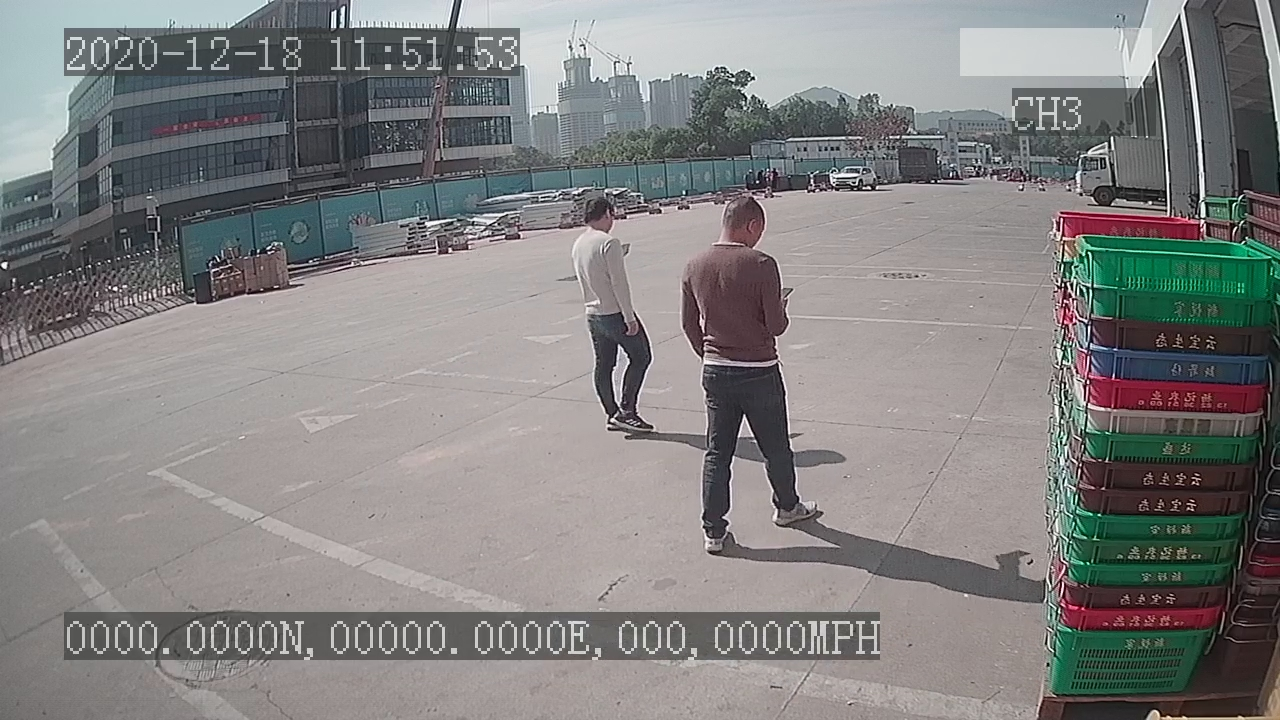person: (670, 186, 827, 567), (563, 190, 667, 445)
